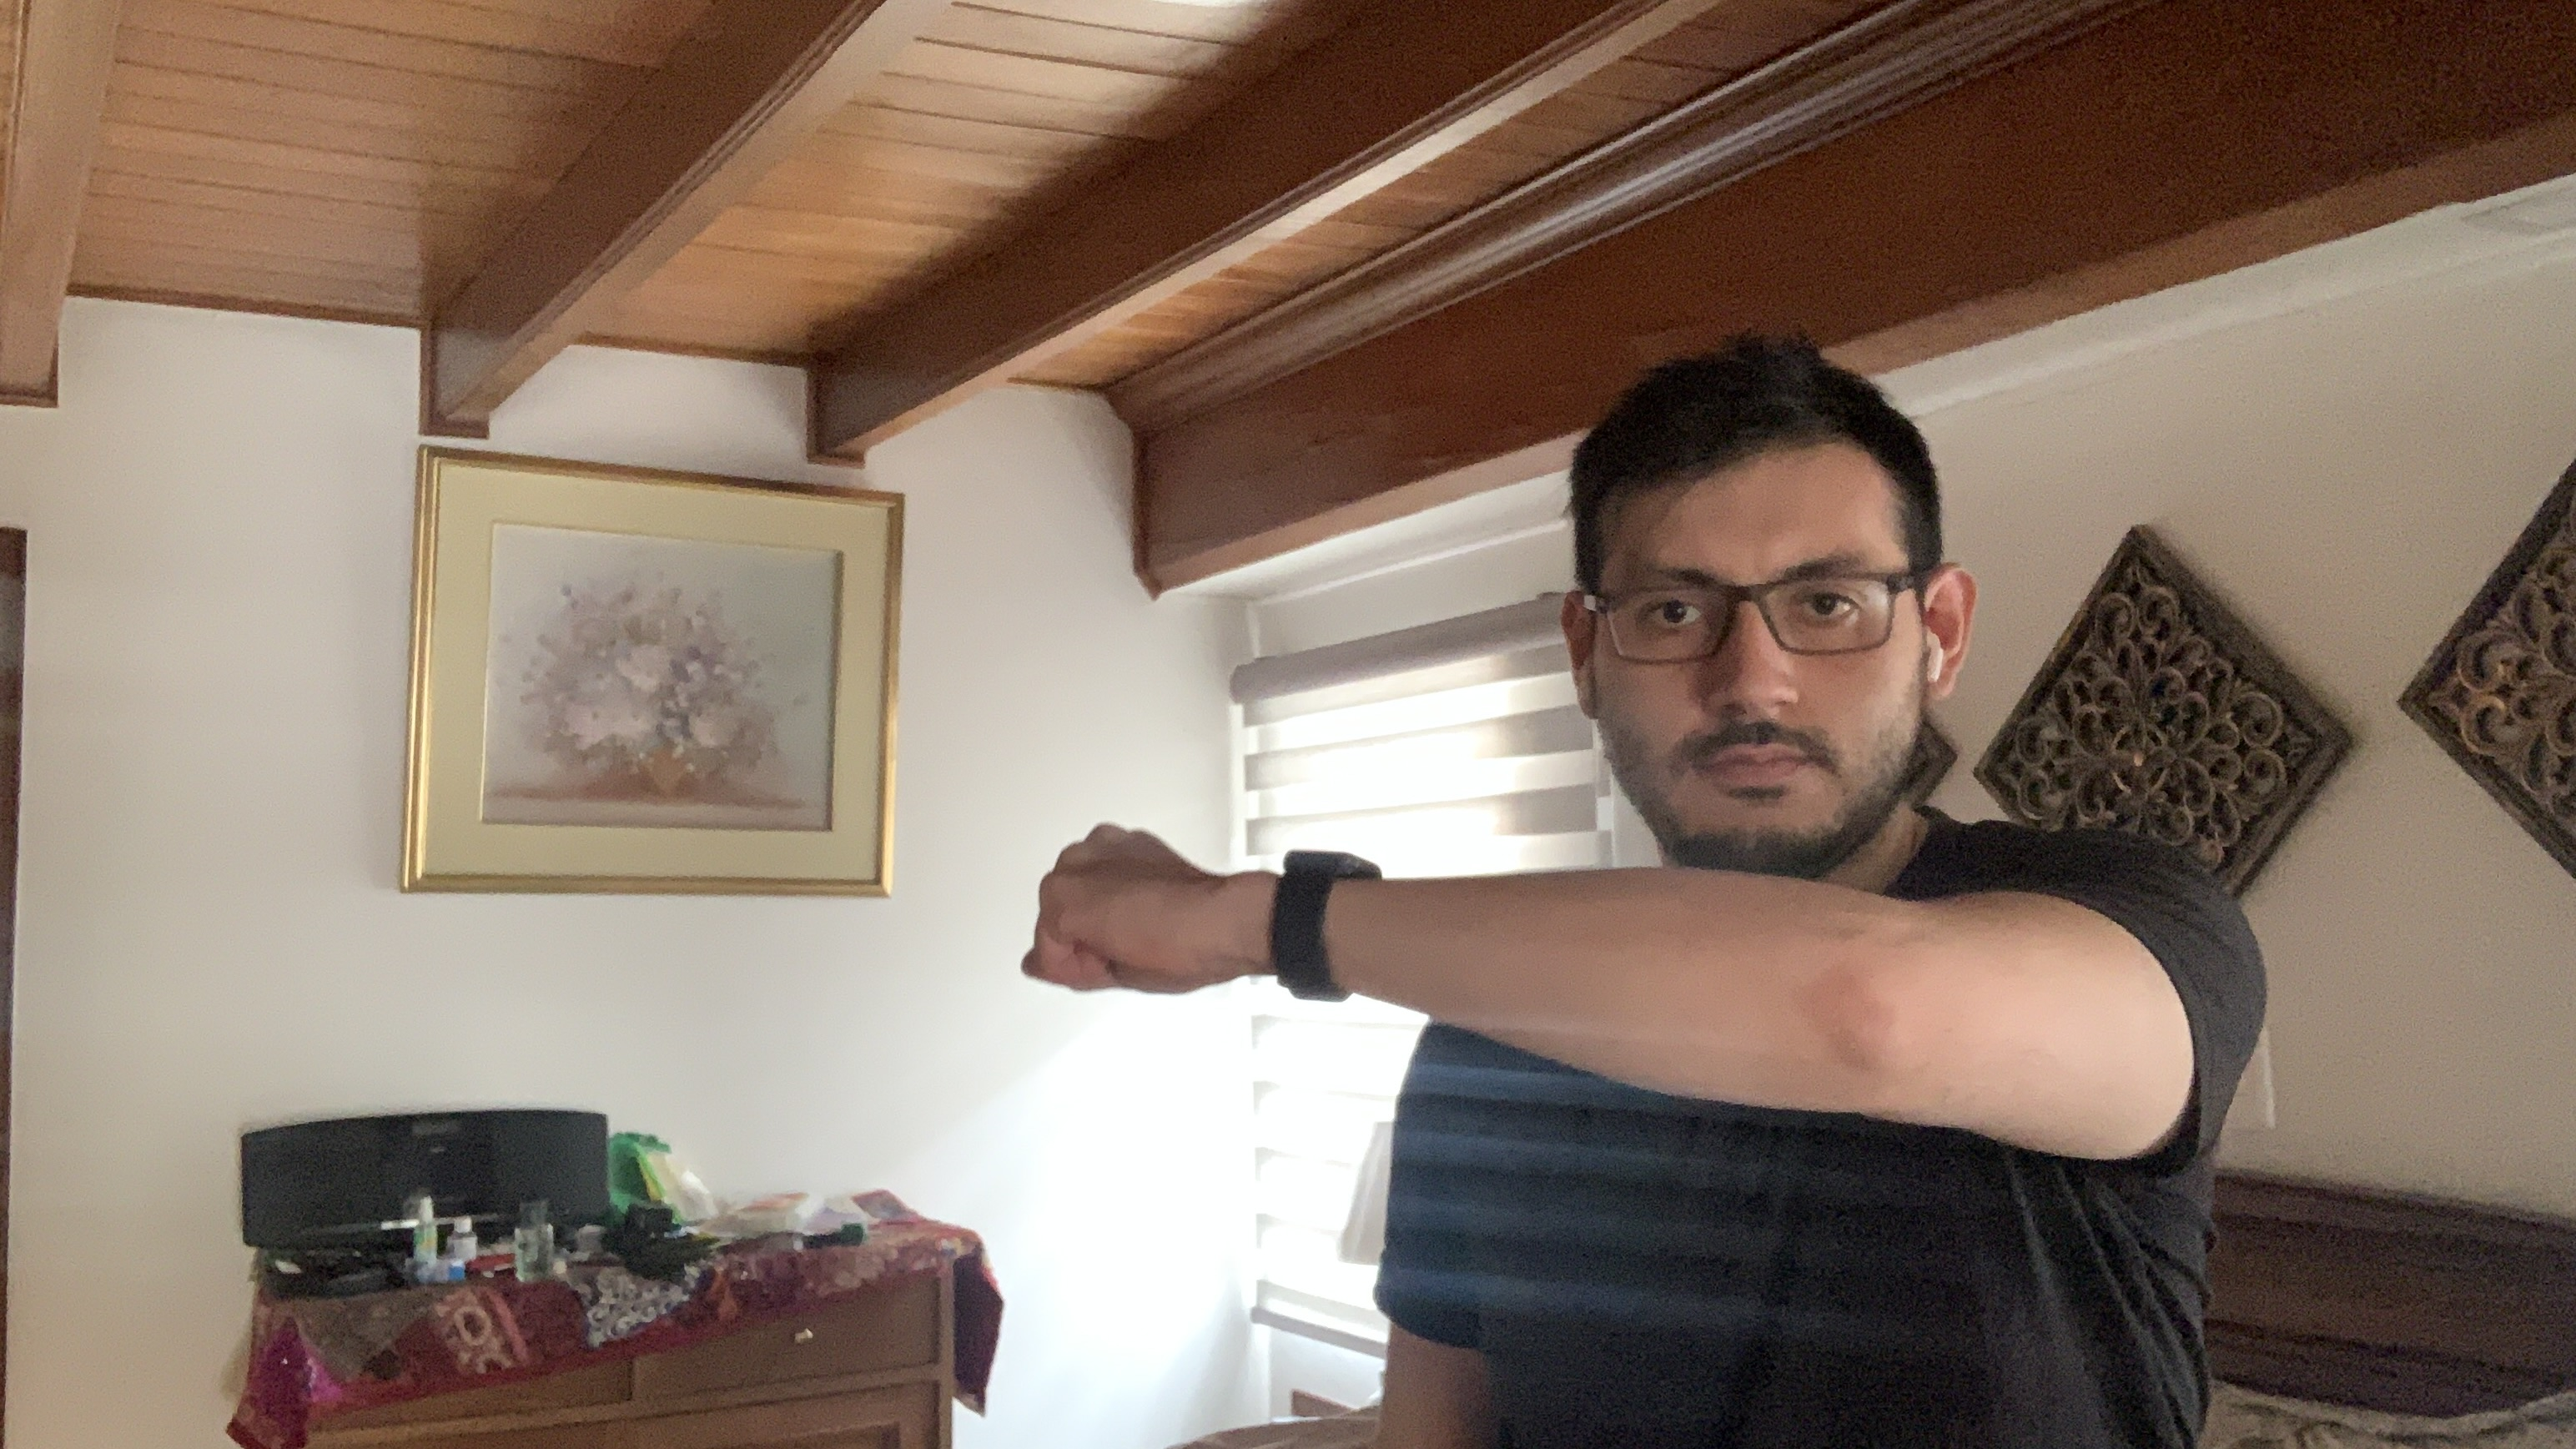Yes: (1001, 809, 1233, 1021)
